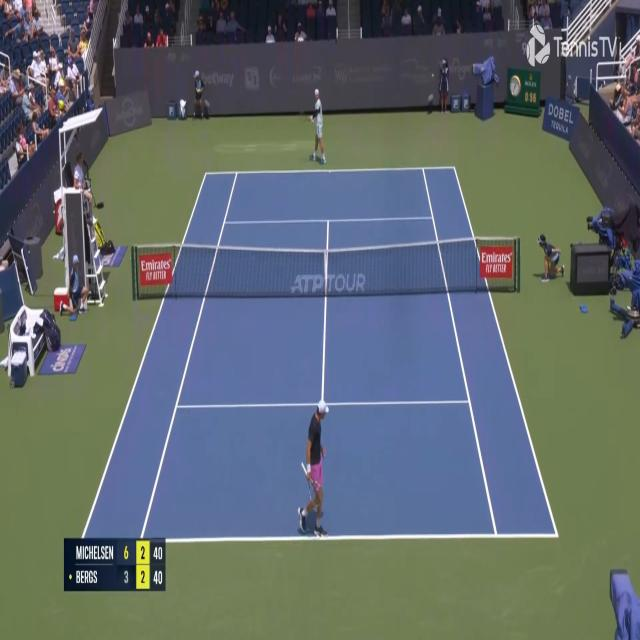tennis-player: (296, 396, 329, 541), (307, 87, 326, 166)
